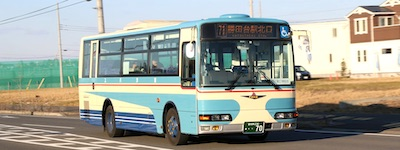destination: (213, 23, 275, 37)
